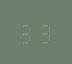three: (19, 20, 35, 44), (36, 19, 52, 43)
